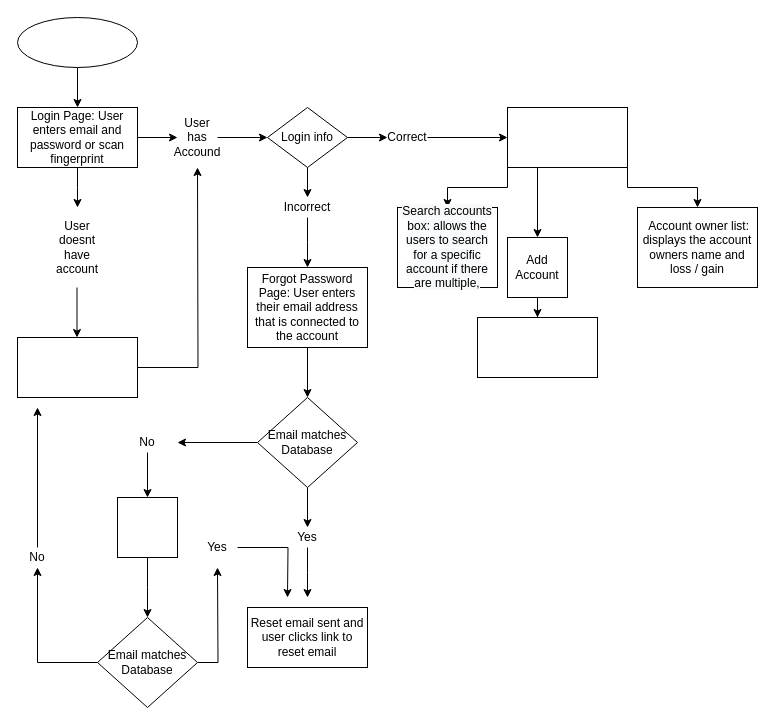
Image size: 775x725. Some labels were removed from this diagram. Here are the shapes that lost their labels. From the top down, the box of each, then its label:
(16, 16, 138, 68): Start
(506, 106, 628, 168): View Main Account Page
(16, 336, 138, 398): Create Account Page: User enters basic information and creates account
(476, 316, 598, 378): User enters First Name, Last Name, Initial Capital, and their email address
(116, 496, 178, 558): Reenter email address
